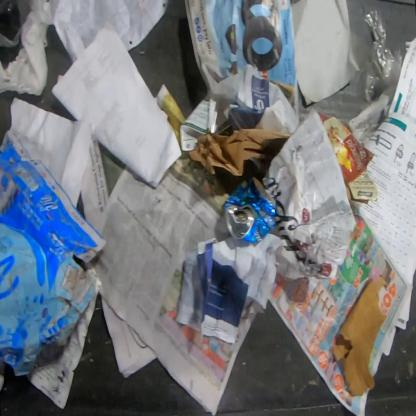cardboard: (0, 128, 110, 374), (318, 112, 378, 206)
metal: (226, 183, 276, 244)
soft_plastic: (0, 1, 60, 95), (359, 7, 403, 110)
